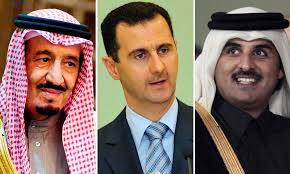middle_eastern_male: (111, 15, 182, 106), (212, 31, 290, 111), (21, 27, 82, 125)
